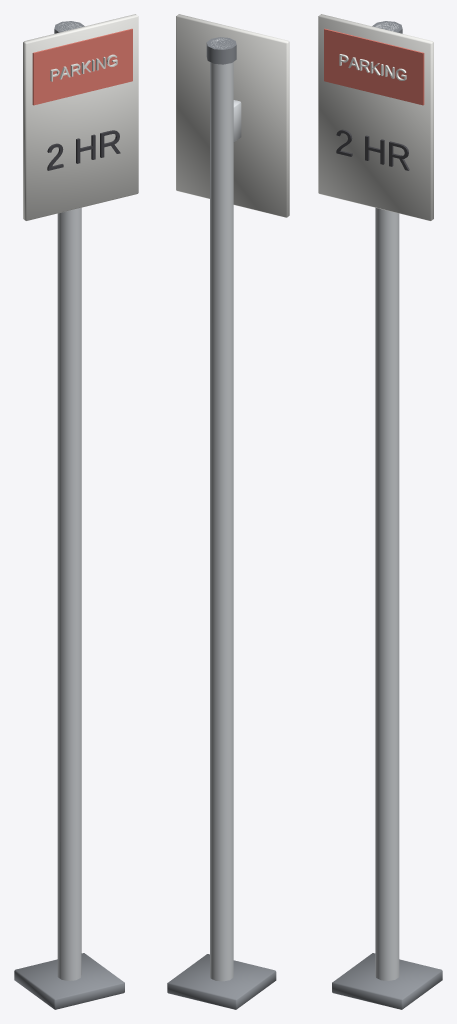
Rendered from Sign_Parking_2H.fbx.
3 renders of one model, left to right at view 1: azimuth 30°, elevation 25°; view 2: azimuth 150°, elevation 25°; view 3: azimuth 330°, elevation 25°, orthographic.
Parts seen in each view (by area): view 1: LOD0; view 2: LOD0; view 3: LOD0.
Part boxes in pixels (left/top/right/bottom): LOD0: left=14, top=14, right=138, bottom=1009; LOD0: left=167, top=14, right=289, bottom=1009; LOD0: left=318, top=14, right=442, bottom=1009.
Size of what is drawn, in the model's own units: 32 by 260 by 20.
